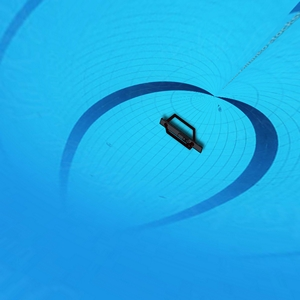submarine: (158, 111, 202, 153)
